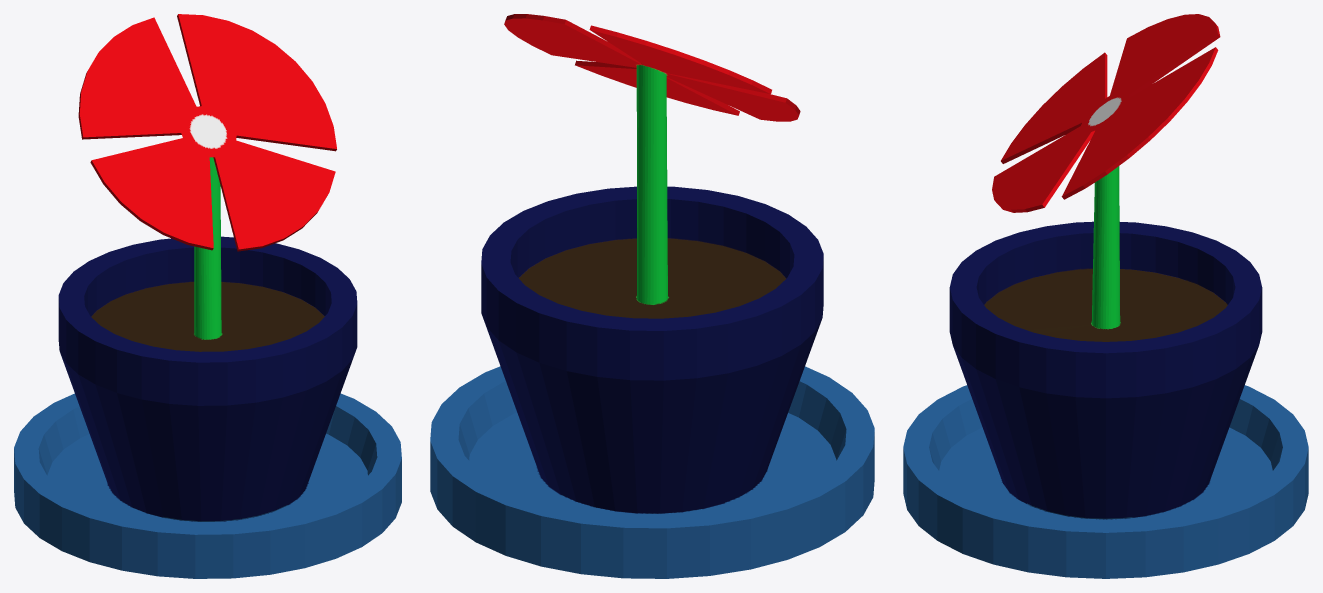
File: PotFleur.fbx
3 views of the same model, side by side, from view 1: azimuth 30°, elevation 25°; view 2: azimuth 150°, elevation 25°; view 3: azimuth 270°, elevation 25° (orthographic). The views are drawn at different scales.
Parts seen in each view (by area): view 1: Pot; view 2: Pot; view 3: Pot.
Boxes of the visible parts, x1,y1,x2,y2 form: Pot: (14, 14, 401, 578); Pot: (430, 14, 874, 578); Pot: (903, 14, 1308, 578).
Bounding box in the file's own units: 40 × 50 × 40.
